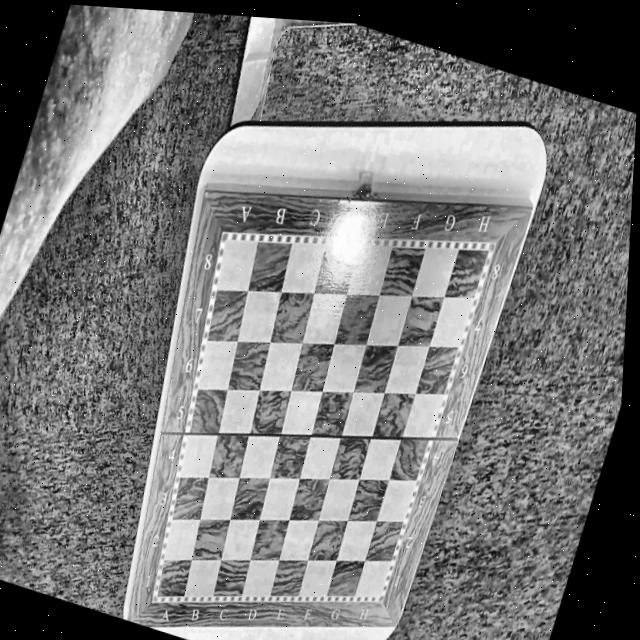chessboard: (157, 239, 490, 596)
